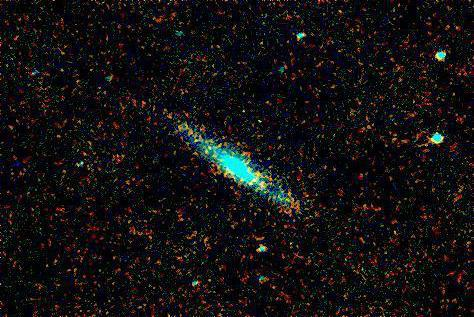star: (244, 156, 274, 186)
